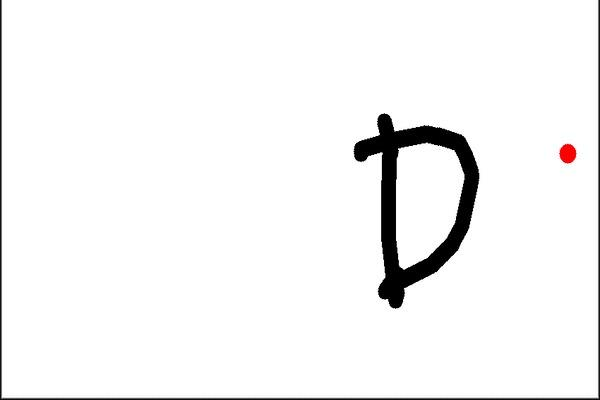D: (347, 109, 485, 312)
